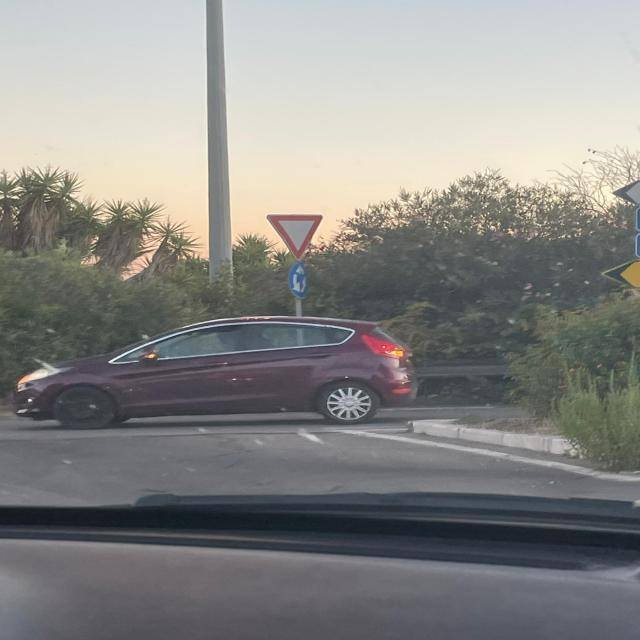prio_give_way: (267, 214, 324, 260)
